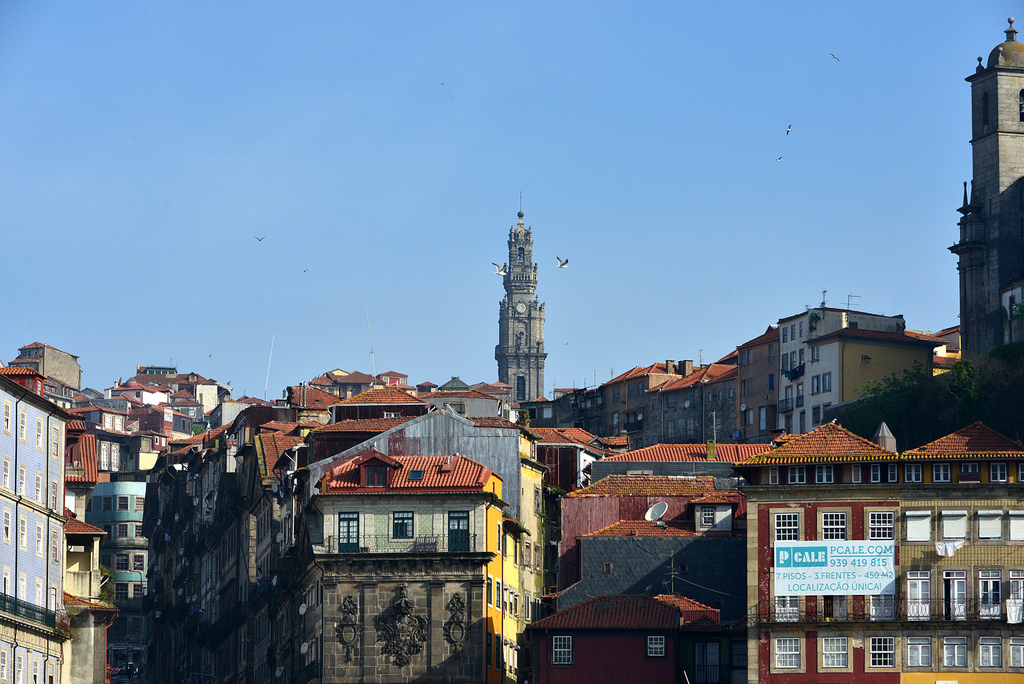clerigos: (494, 190, 547, 404)
